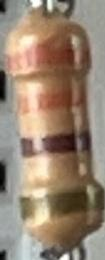Brown: (20, 127, 93, 163)
Orange: (18, 84, 89, 117), (9, 45, 91, 71)
Side-Gold: (20, 183, 103, 225)
